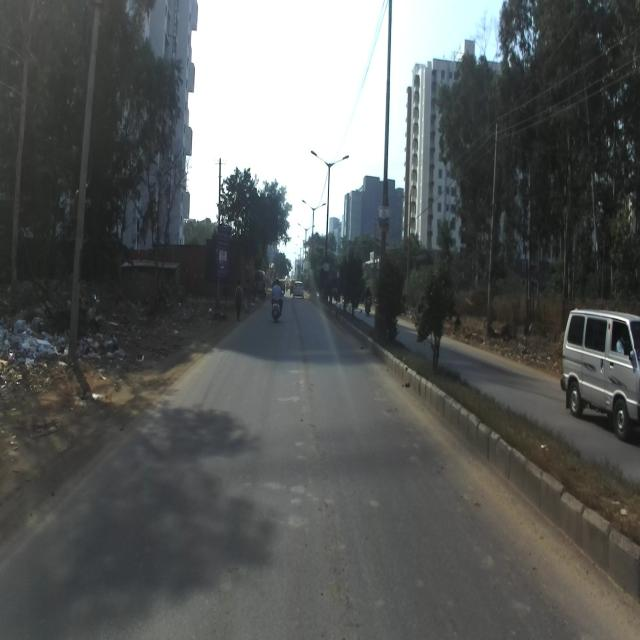car: (558, 308, 639, 440)
